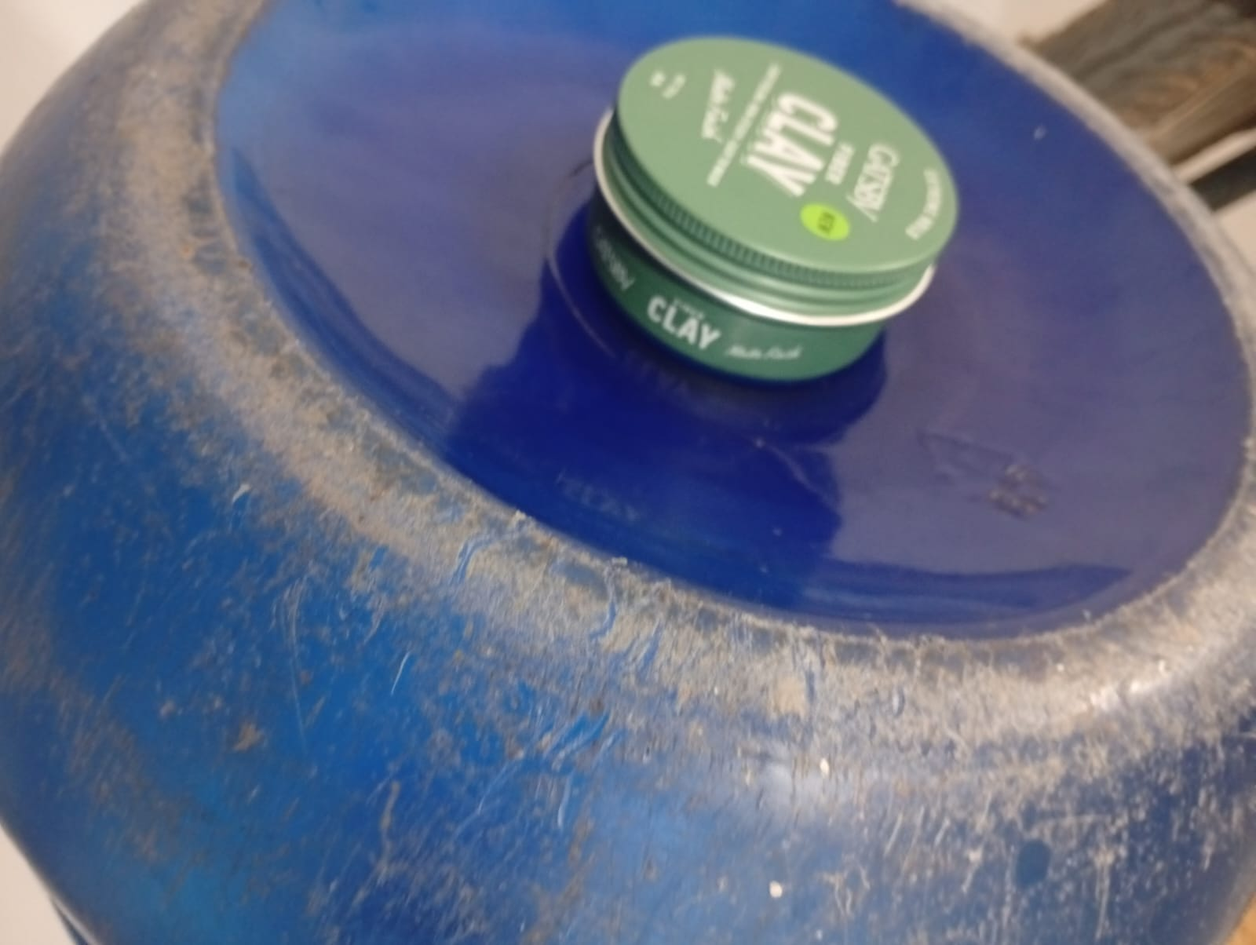Minyak_Rambut: (529, 37, 966, 383)
